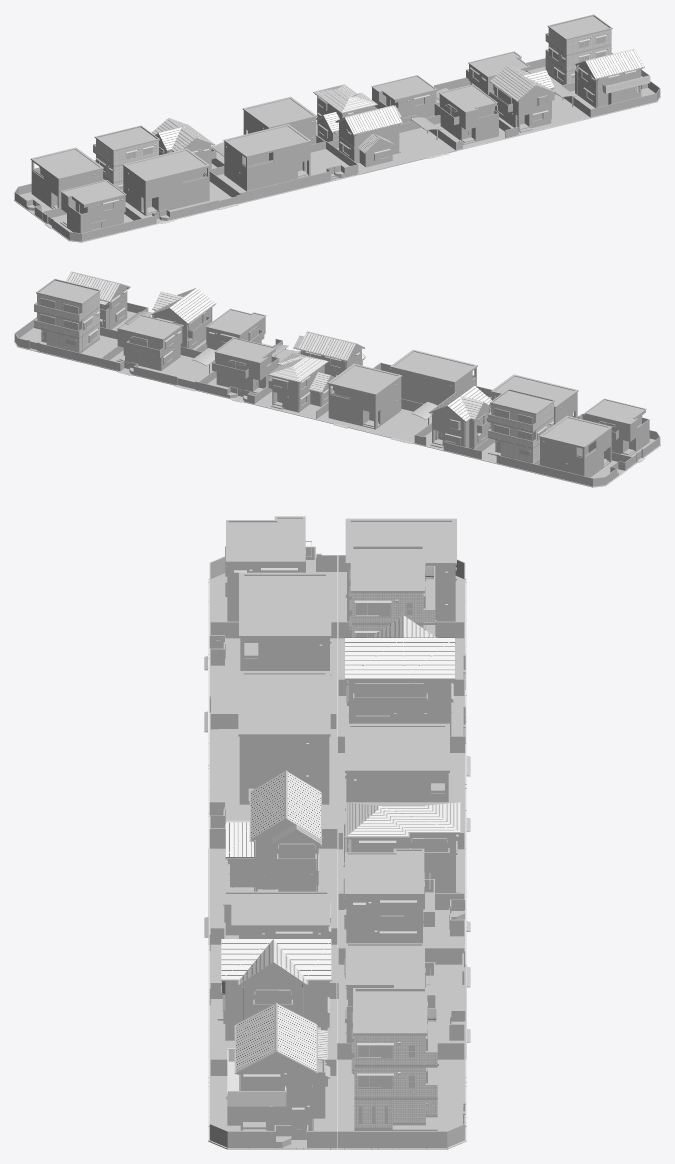
File: Street_F.fbx
3 views of the same model, one above another, from view 1: azimuth 30°, elevation 25°; view 2: azimuth 150°, elevation 25°; view 3: azimuth 270°, elevation 25° (orthographic). The views are drawn at different scales.
Visible parts, largest first — view 1: Street_F; view 2: Street_F; view 3: Street_F.
Boxes of the visible parts, x1,y1,x2,y2 form: Street_F: [14, 14, 660, 242]; Street_F: [14, 271, 660, 487]; Street_F: [204, 516, 470, 1149].
Bounding box in the file's own units: 10710 × 860 × 2082.
